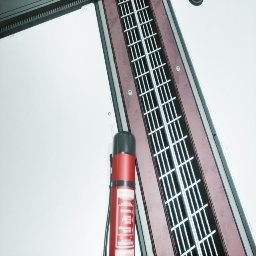FireExtinguisher ]: (103, 131, 136, 256)
